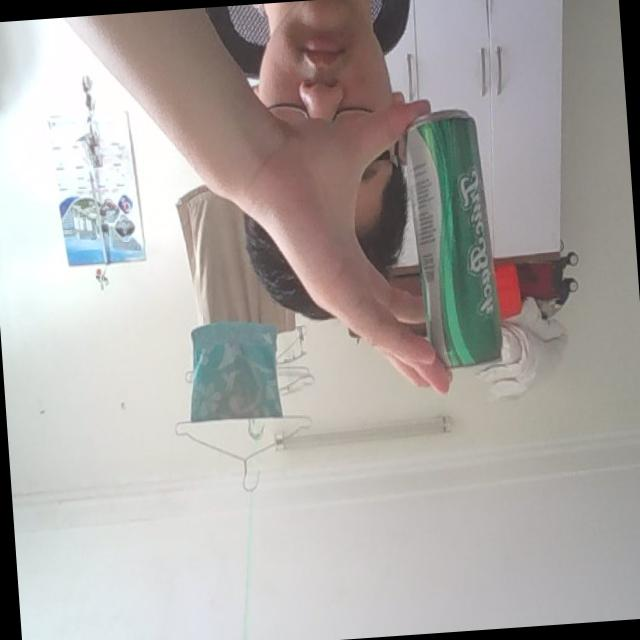Bia-Truc-Bach: (402, 110, 506, 380)
